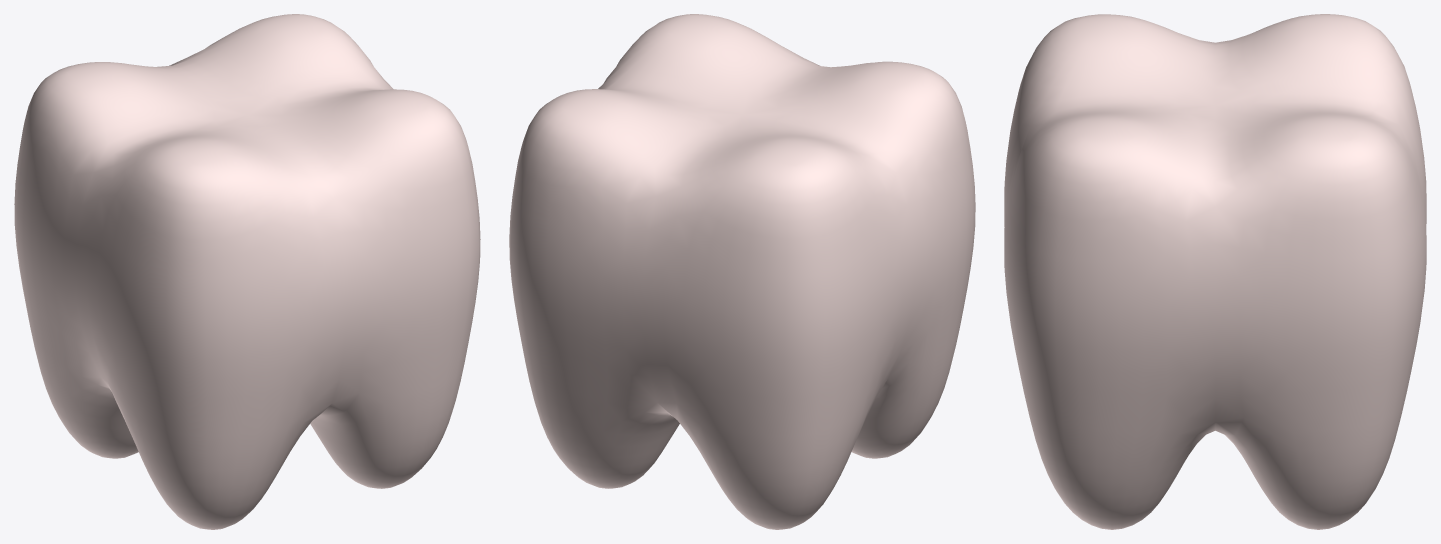
File: Public_20_Big_Tooth_1.glb
The picture shows the model from 3 angles, left to right: view 1: azimuth 30°, elevation 25°; view 2: azimuth 150°, elevation 25°; view 3: azimuth 270°, elevation 25°; orthographic projection. The views are drawn at different scales.
Parts seen in each view (by area): view 1: Public_20_Big_Tooth_1; view 2: Public_20_Big_Tooth_1; view 3: Public_20_Big_Tooth_1.
Boxes of the visible parts, x1,y1,x2,y2 form: Public_20_Big_Tooth_1: (14, 14, 480, 529); Public_20_Big_Tooth_1: (509, 14, 975, 529); Public_20_Big_Tooth_1: (1004, 14, 1426, 529).
Bounding box in the file's own units: 2.45 × 2.59 × 2.45.
Materials: 1 (1 with a texture image).
